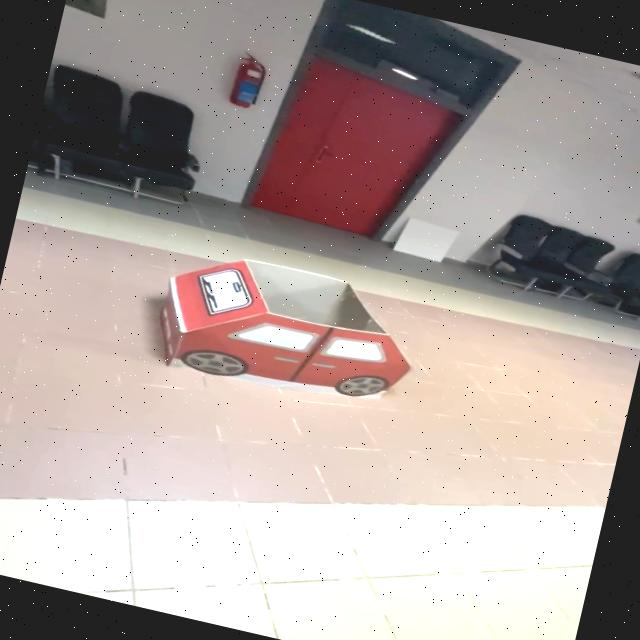red_car: (130, 227, 463, 443)
